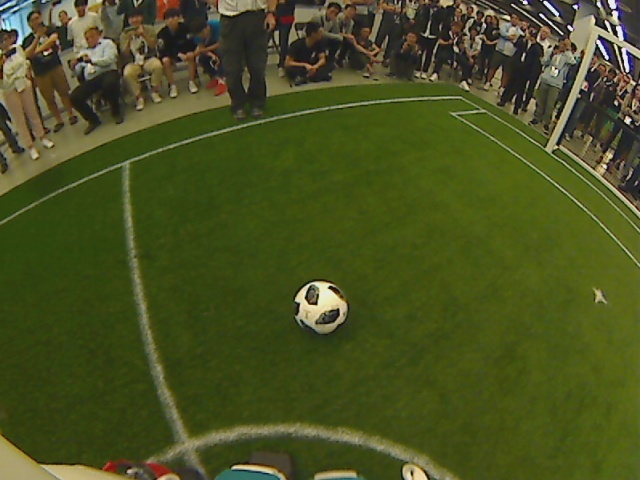ball: (292, 278, 350, 333)
